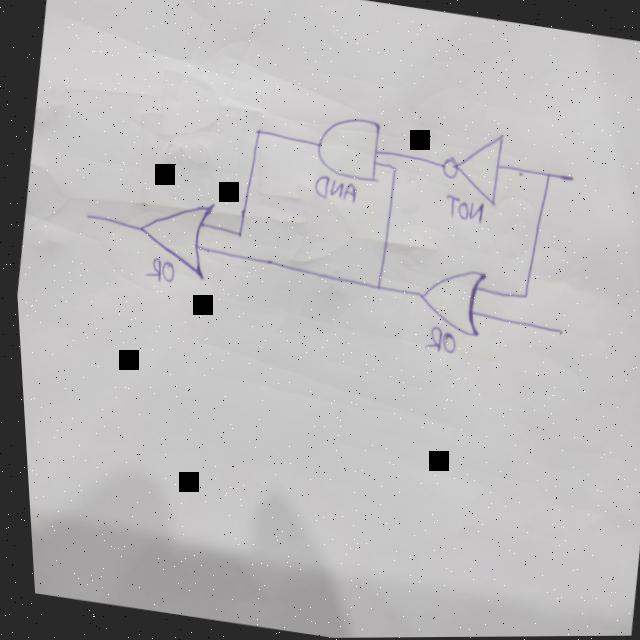junction: (247, 121, 269, 144), (537, 166, 558, 185), (367, 277, 382, 295), (516, 289, 529, 303), (231, 228, 244, 242), (388, 163, 397, 174)
terminal: (79, 208, 96, 224), (562, 170, 578, 186), (551, 326, 564, 339)
text: (309, 172, 359, 205), (441, 194, 485, 225), (418, 324, 457, 357), (141, 256, 175, 284)
